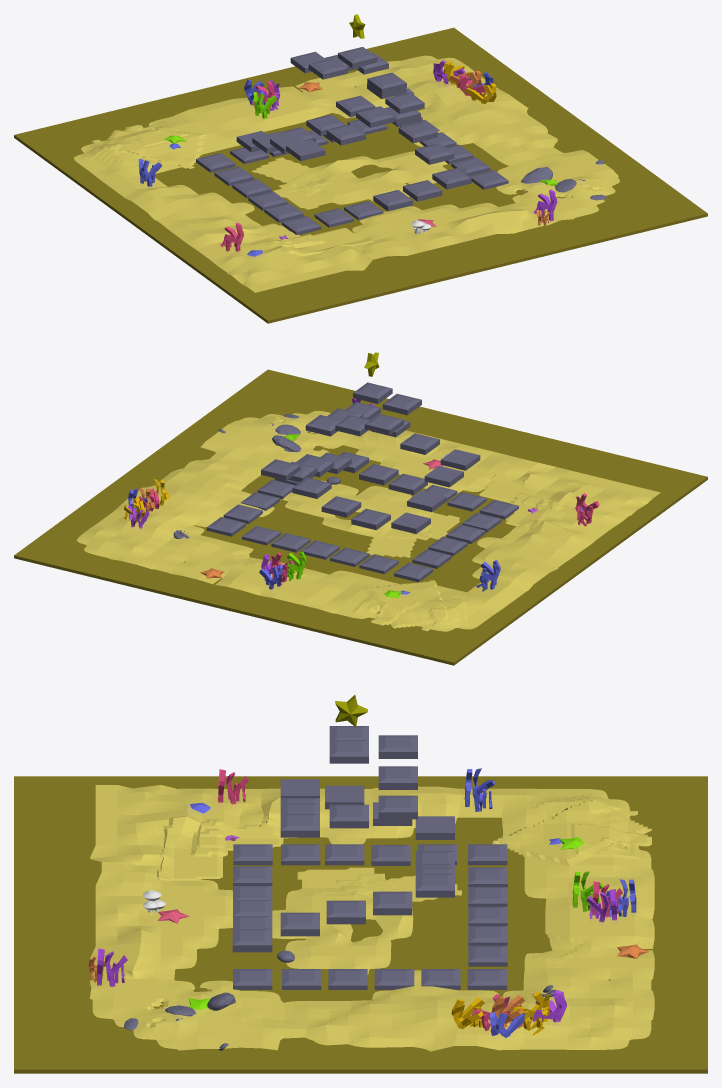
Rendered from map.glb.
3 views of the same model, one above another, from view 1: azimuth 30°, elevation 25°; view 2: azimuth 150°, elevation 25°; view 3: azimuth 270°, elevation 25° (orthographic). The views are drawn at different scales.
Visible parts, largest first — view 1: Plane, Cube.037, Cube.043, Cube.017, Cube.041, Cube.042, Cube.022, Cube.018, Cube.039, Cube.040, Cube.026, Cube.019 (+11 smaller); view 2: Plane, Cube.037, Cube.030, Cube.043, Cube.033, Cube.029, Cube.032, Cube.035, Cube.036, Cube.018, Cube.028, Cube.031 (+15 smaller); view 3: Plane, Cube.037, Cube.017, Cube.024, Cube.025, Cube.039, Cube.022, Cube.023, Cube.028, Cube.040, Cube.026, Cube.027 (+27 smaller).
Boxes of the visible parts, box(x1,y1,x2,y2) form: Plane: box(74, 55, 619, 292); Cube.037: box(14, 27, 707, 323); Cube.043: box(286, 139, 325, 161); Cube.017: box(432, 168, 471, 189); Cube.041: box(356, 106, 395, 127); Cube.042: box(326, 124, 365, 145); Cube.022: box(367, 72, 406, 93); Cube.018: box(403, 180, 442, 201); Cube.039: box(415, 143, 454, 164); Cube.040: box(385, 92, 424, 113); Cube.026: box(338, 47, 377, 68); Cube.019: box(373, 190, 412, 211); Plane: box(77, 410, 660, 631); Cube.037: box(14, 369, 707, 665); Cube.030: box(321, 496, 361, 517); Cube.043: box(440, 449, 480, 470); Cube.033: box(382, 393, 421, 415); Cube.029: box(292, 477, 331, 498); Cube.032: box(391, 512, 430, 533); Cube.035: box(407, 490, 446, 512); Cube.036: box(424, 465, 463, 487); Cube.018: box(359, 464, 398, 485); Cube.028: box(261, 459, 300, 480); Cube.031: box(351, 508, 390, 530); Plane: box(89, 785, 654, 1051); Cube.037: box(14, 776, 707, 1073); Cube.017: box(232, 928, 272, 952); Cube.024: box(373, 891, 412, 915); Cube.025: box(326, 900, 365, 924); Cube.039: box(280, 912, 319, 936); Cube.022: box(329, 804, 368, 828); Cube.023: box(378, 795, 417, 819); Cube.028: box(415, 874, 454, 897); Cube.040: box(280, 814, 319, 837); Cube.026: box(329, 740, 368, 763); Cube.027: box(378, 766, 417, 789).
Bounding box in the file's own units: 38.41 × 14.24 × 38.41.
